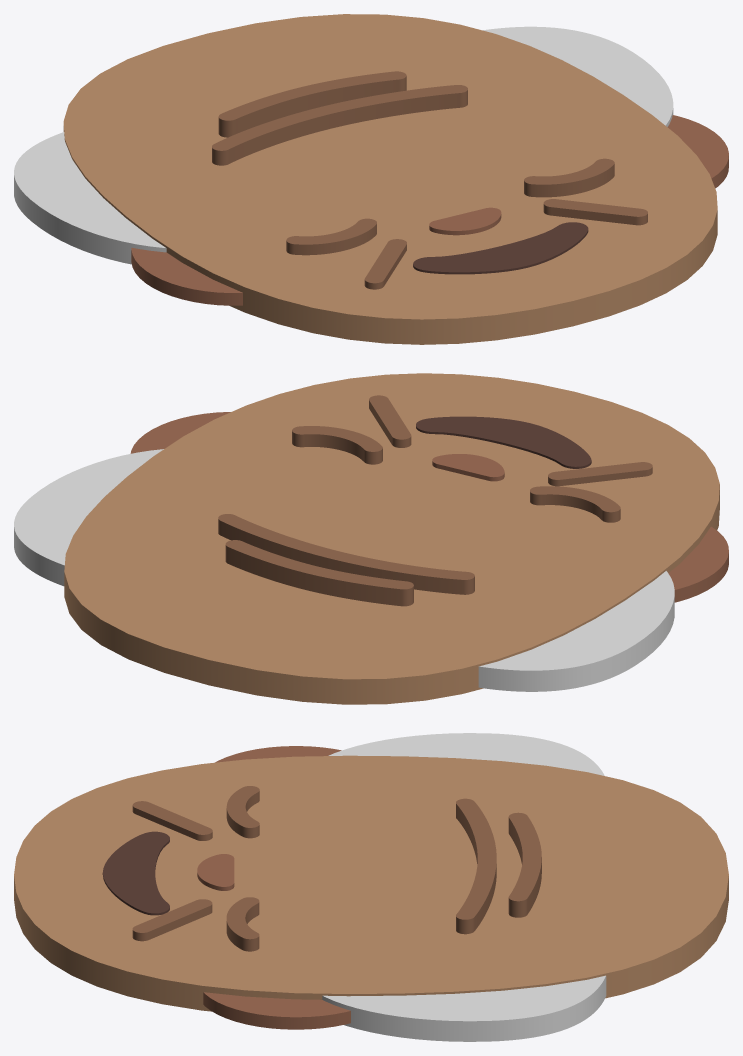
The model's file is emoji_u1f474_1f3fd.glb.
3 views of the same model, one above another, from view 1: azimuth 30°, elevation 25°; view 2: azimuth 150°, elevation 25°; view 3: azimuth 270°, elevation 25° (orthographic). The views are drawn at different scales.
Parts seen in each view (by area): view 1: emoji_u1f474_1f3fd; view 2: emoji_u1f474_1f3fd; view 3: emoji_u1f474_1f3fd.
Part boxes in pixels (x1,y1,x2,y2): emoji_u1f474_1f3fd: [14, 14, 728, 344]; emoji_u1f474_1f3fd: [14, 373, 728, 704]; emoji_u1f474_1f3fd: [14, 733, 728, 1041].
Bounding box in the file's own units: 0.0299 × 0.0028 × 0.0314.
